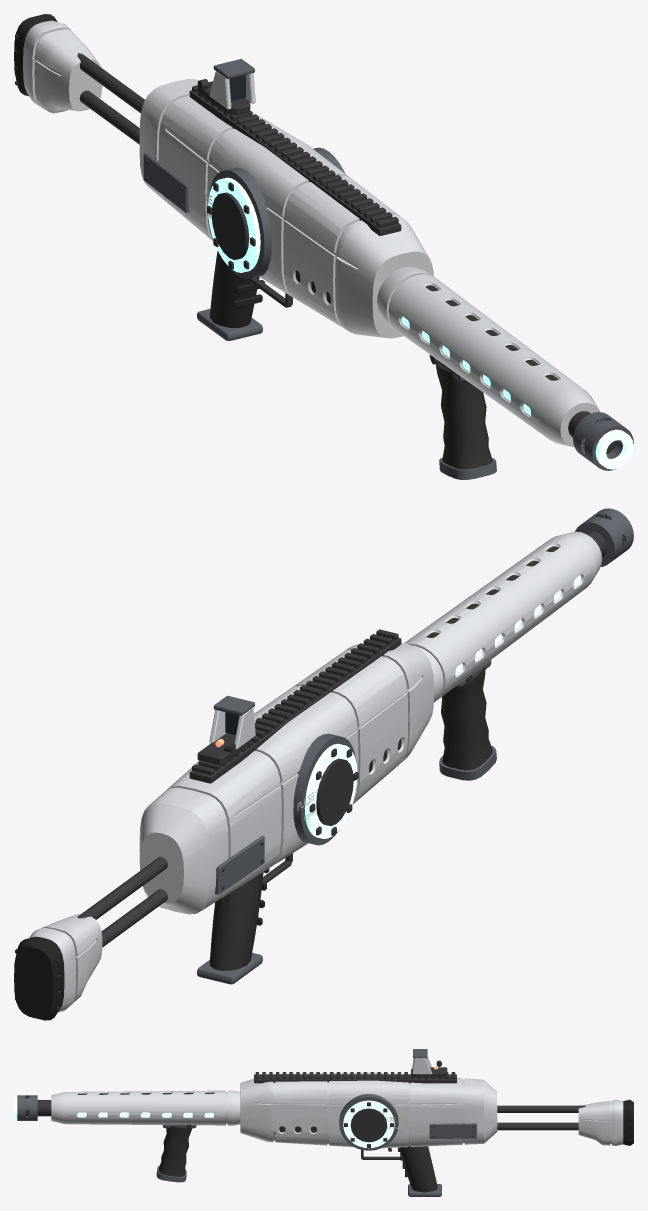
The model's file is pulsemg.glb.
3 views of the same model, one above another, from view 1: azimuth 30°, elevation 25°; view 2: azimuth 150°, elevation 25°; view 3: azimuth 270°, elevation 25° (orthographic). The views are drawn at different scales.
Parts seen in each view (by area): view 1: Body; view 2: Body; view 3: Body.
Boxes of the visible parts, x1,y1,x2,y2 form: Body: (14, 14, 633, 479); Body: (14, 508, 633, 1020); Body: (14, 1049, 633, 1196).
Size of the model in its own units: 0.098 by 0.2289 by 0.917.
